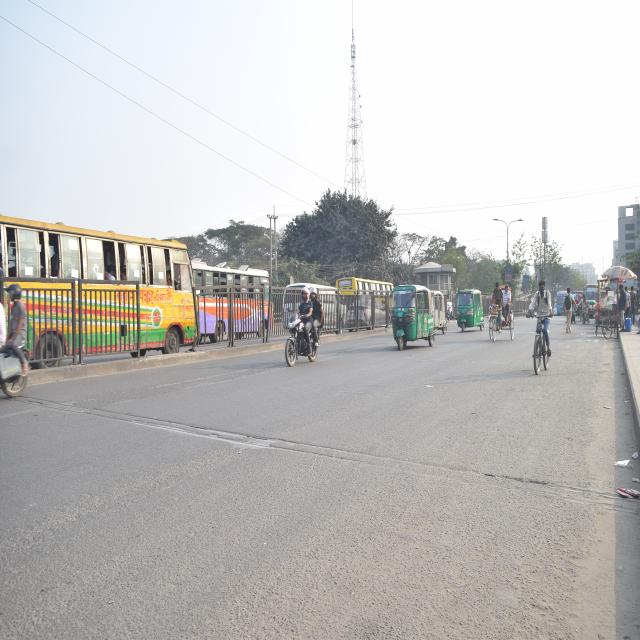bus: (1, 224, 199, 385), (582, 283, 600, 305), (555, 288, 567, 317)
motorbike: (280, 292, 323, 372)
